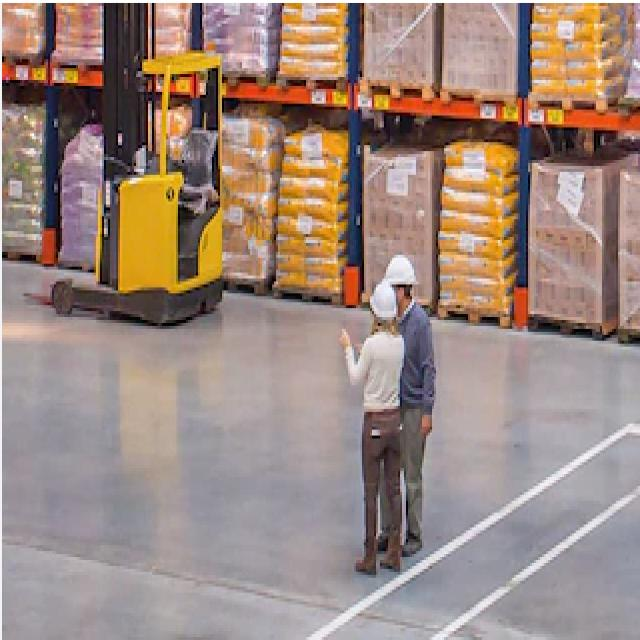boots: (360, 516, 426, 560), (351, 544, 405, 578)
helmet: (380, 248, 418, 305), (367, 277, 401, 333)
